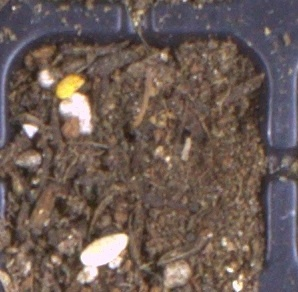chilli seed: (55, 73, 85, 99)
